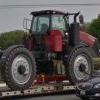Tractor: (7, 6, 100, 92)
